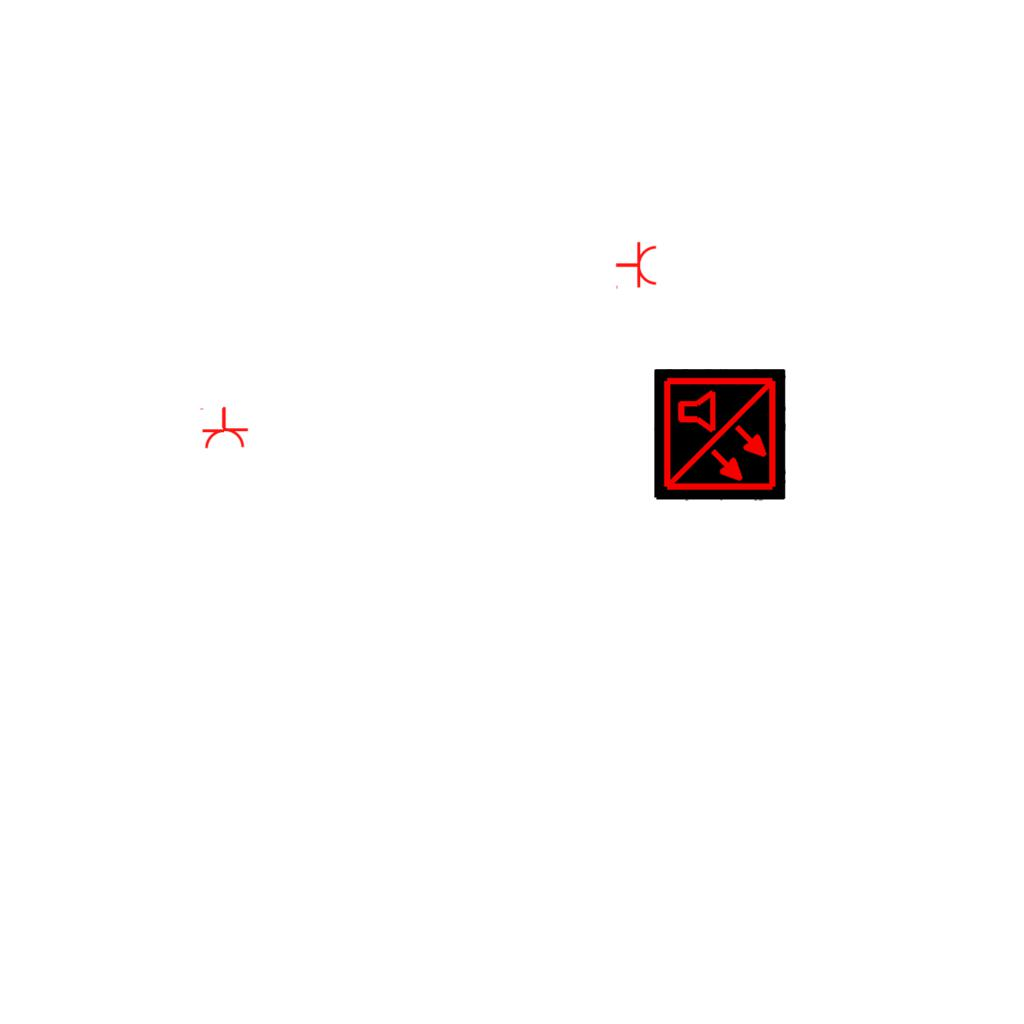OKW_Multisensormelder_(Kombination_optischer_Rauch-Kahlenmonoxid_Waerme-Melder): (654, 369, 786, 501)
Schukosteckdose_einfach: (198, 406, 249, 450), (615, 241, 658, 291)
